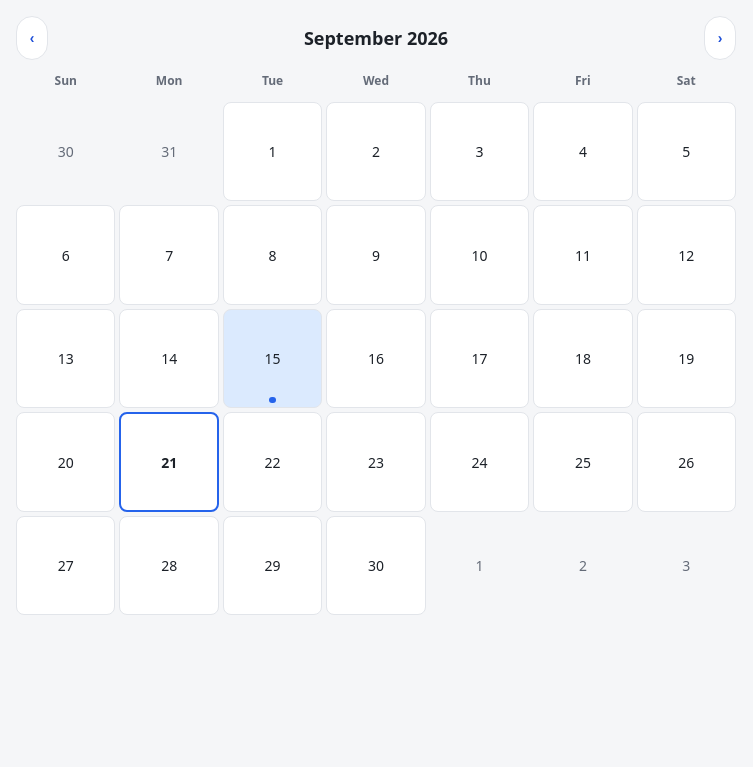
it: AppointmentCalendar › navigates to the next and previous month, keeping appointments tied to their own date
Expected: the text "September 2026" is shown, 304,24 -> 448,52
Click the button named "Next month".
click(720, 38)  # box 704,16 -> 736,60
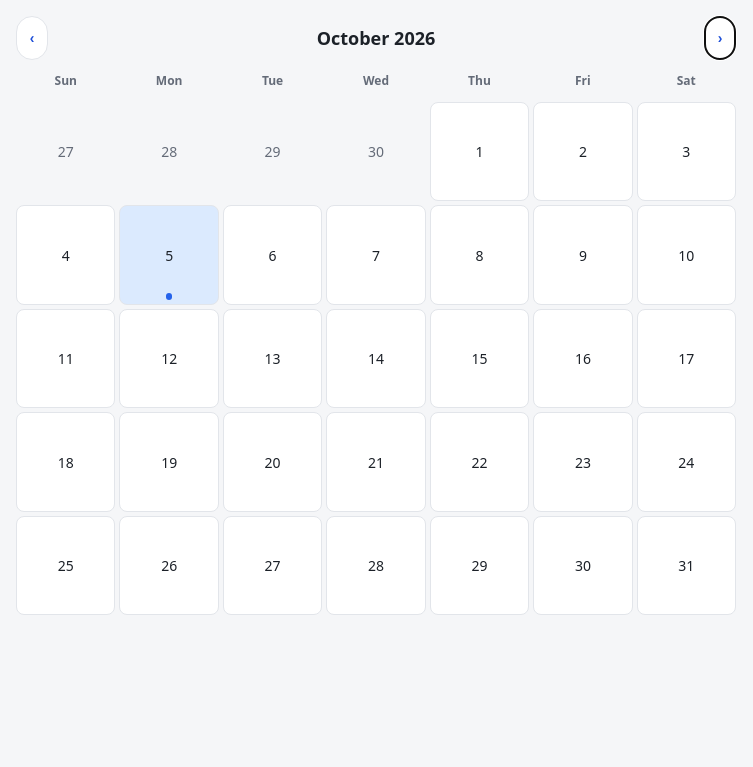
Expected: the text "October 2026" is shown, 317,24 -> 435,52
Click the button with test id "calendar-day-2026-10-05".
click(169, 255)  # box 119,205 -> 219,305
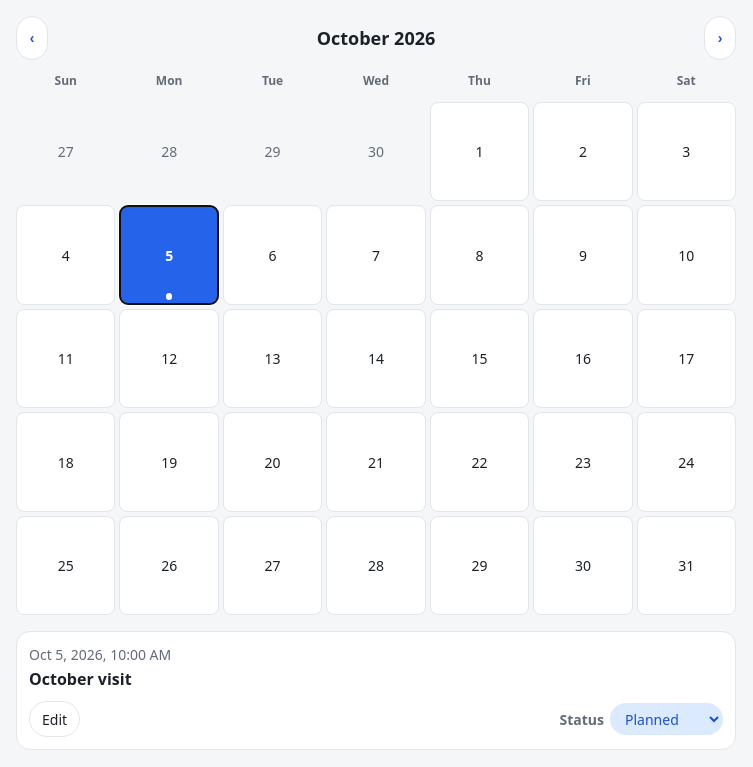
Expected: the text "October visit" is shown, 29,668 -> 132,690
Click the button named "Previous month".
click(32, 38)  # box 16,16 -> 48,60
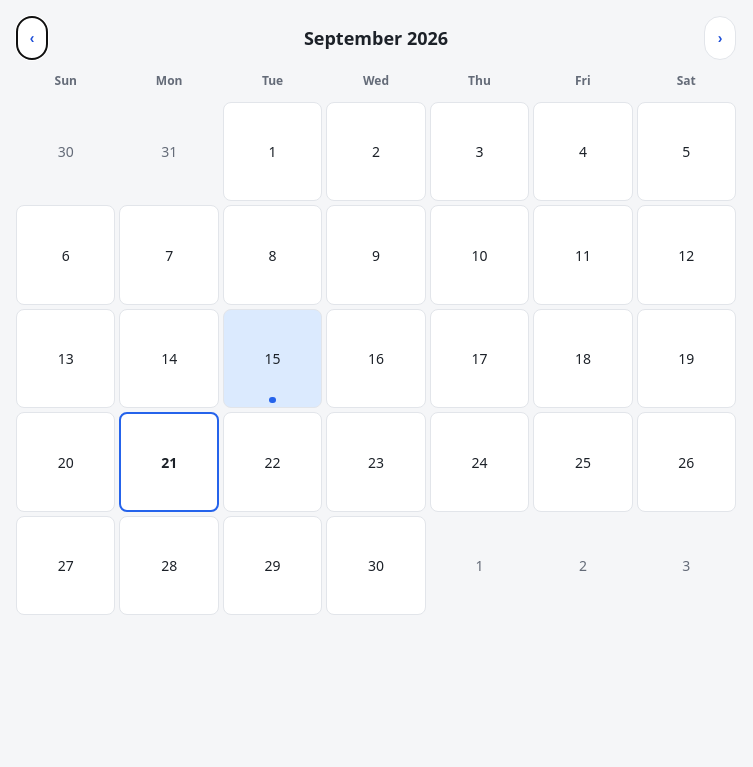
Click the button named "Previous month".
click(32, 38)  # box 16,16 -> 48,60
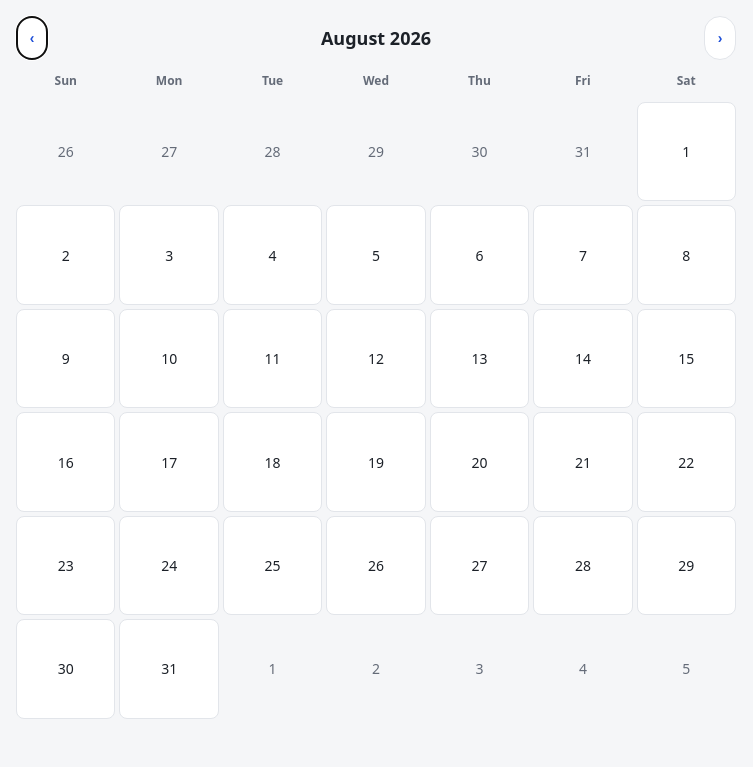
Expected: the text "August 2026" is shown, 321,24 -> 431,52
